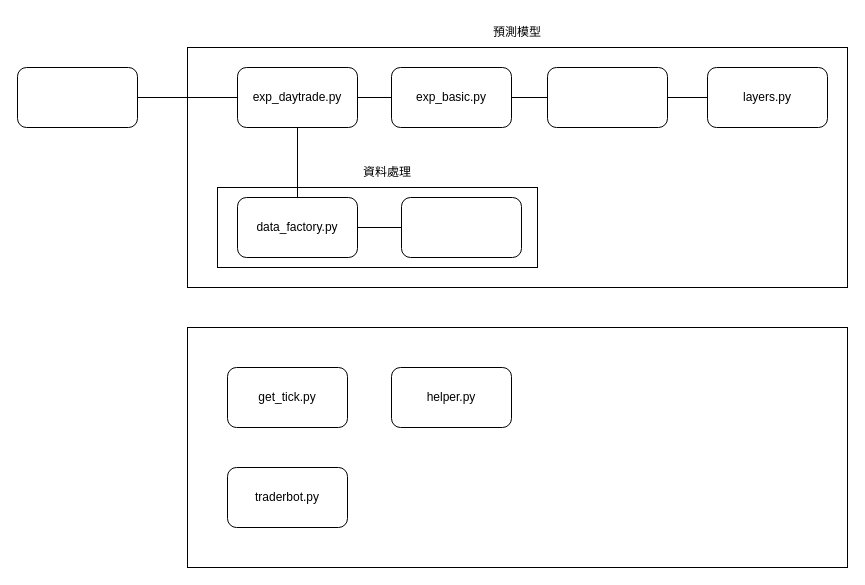
This 865x585 diagram has some shape labels left out. Here are the shapes that lost their labels. From the top down, the centre of each, then its label:
At (77,97): "run.py".
At (607,97): "TimesNet.py".
At (461,227): "data_loader.py".
